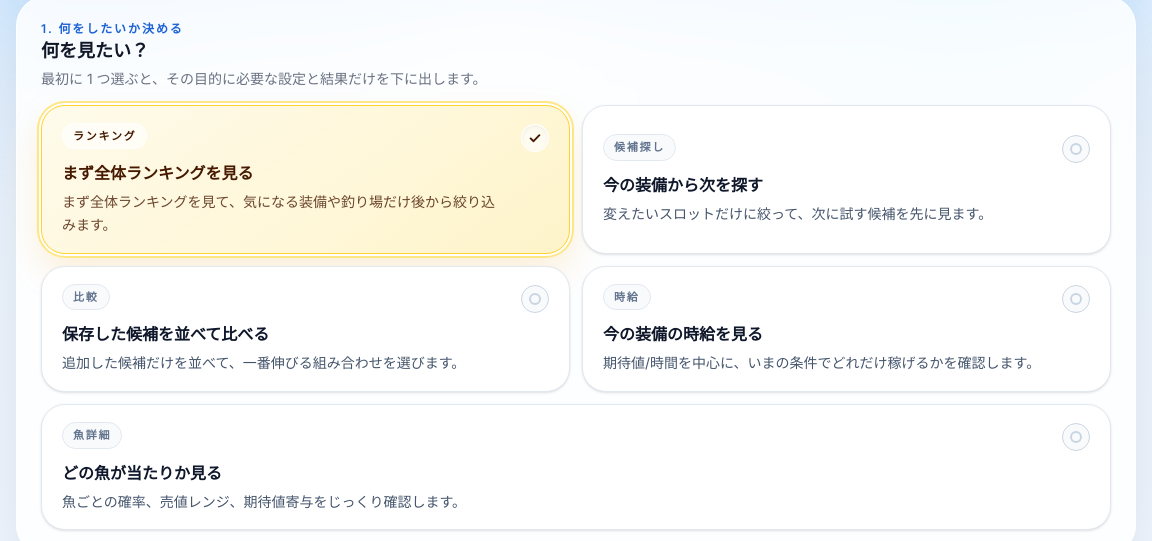
UI quality – overflow and wrapping prevention › shows only the sections needed for the selected goal
This screenshot has width=1152, height=541.
Check: the heading "魚種別詳細" is not shown
Click the button "候補探し 今の装備から次を探す 変えたいスロットだけに絞って、次に試す候補を先に見ます。".
click(640, 147)  # box [582,105,1111,254]
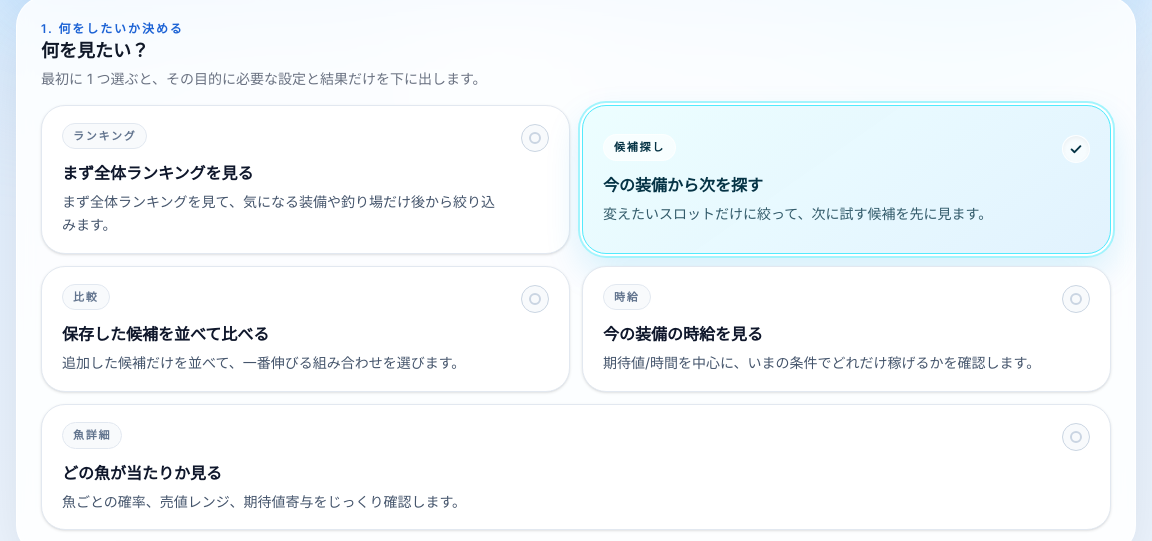
Click the button "比較 保存した候補を並べて比べる 追加した候補だけを並べて、一番伸びる組み合わせを選びます。".
click(86, 297)  # box [41,266,570,392]
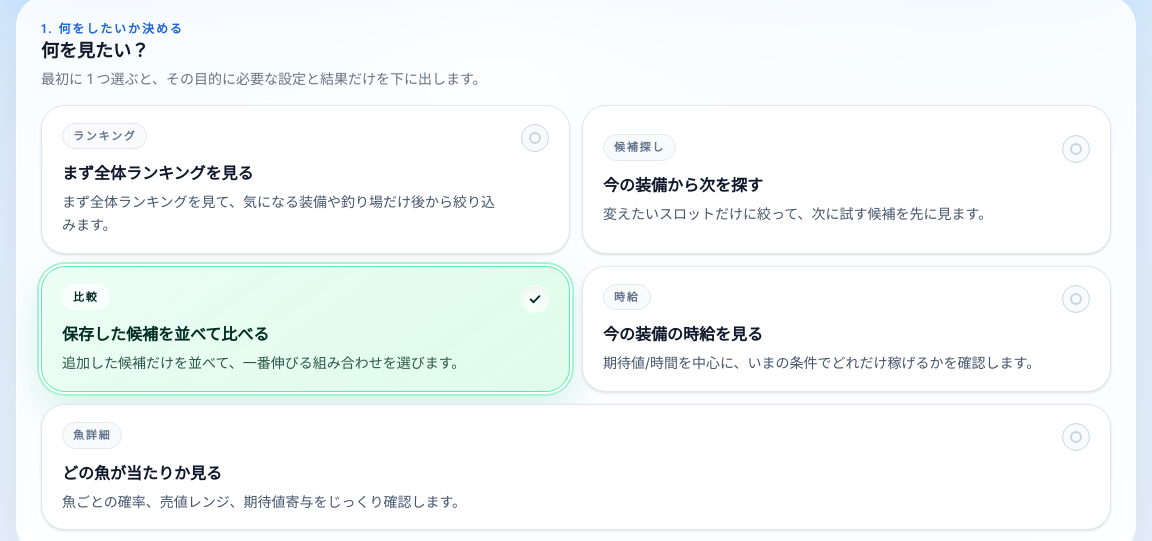
Click the button "魚詳細 どの魚が当たりか見る 魚ごとの確率、売値レンジ、期待値寄与をじっくり確認します。".
click(92, 435)  # box [41,404,1111,530]
(page scrolled)
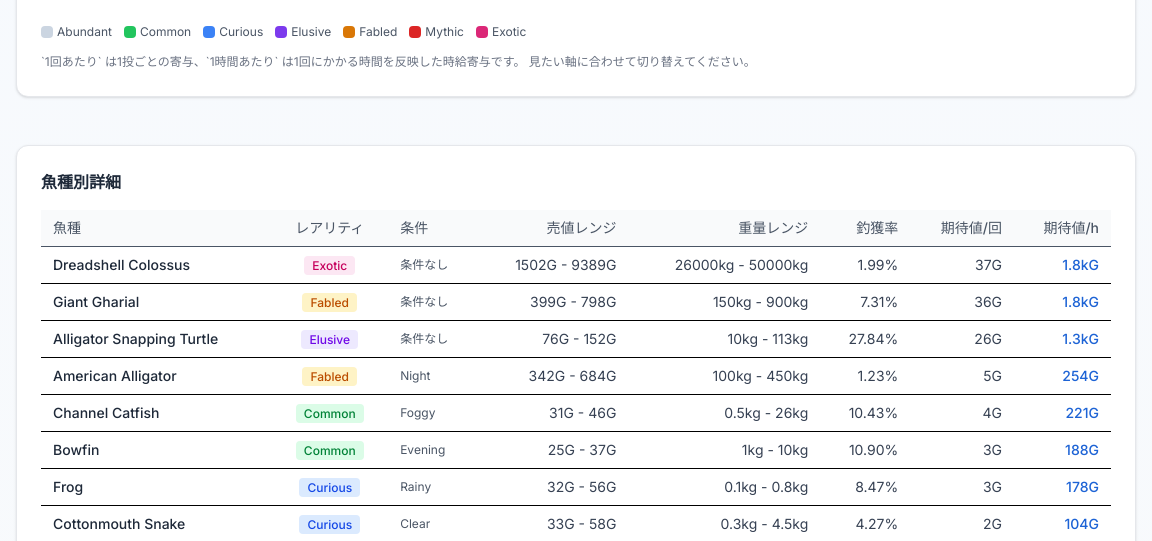
Check: the heading "魚種別詳細" is shown, box [41,172,121,192]
